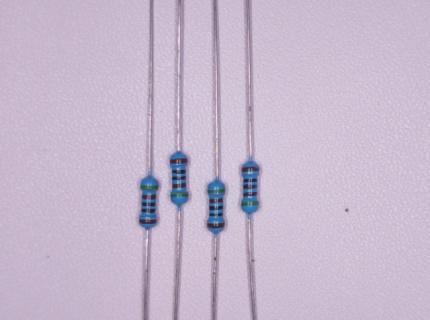Black band: (142, 208, 155, 213), (142, 202, 156, 206), (172, 176, 186, 180), (243, 185, 257, 189), (172, 170, 185, 174), (209, 206, 222, 210), (243, 179, 258, 182), (209, 213, 222, 216)
Brown band: (207, 223, 225, 229), (170, 158, 187, 164), (242, 167, 259, 172), (139, 219, 157, 223), (142, 195, 156, 200), (173, 183, 187, 188), (244, 192, 257, 197), (210, 199, 223, 203)
Green band: (140, 184, 158, 189), (171, 193, 188, 198), (242, 202, 259, 206), (208, 189, 224, 193)
